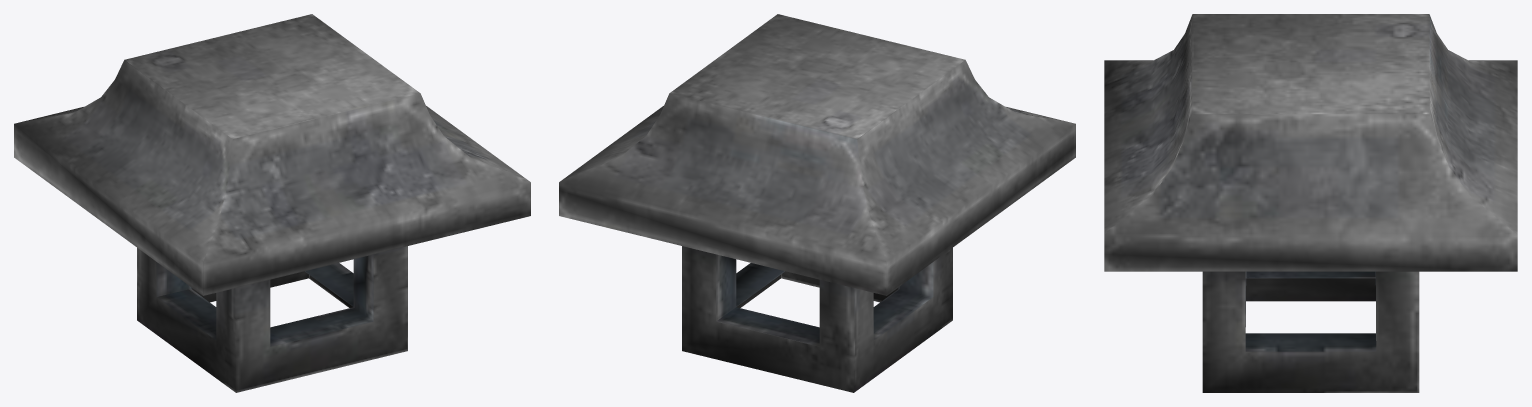
The model's file is lantern.fbx.
3 views of the same model, side by side, from view 1: azimuth 30°, elevation 25°; view 2: azimuth 150°, elevation 25°; view 3: azimuth 270°, elevation 25° (orthographic). The views are drawn at different scales.
Visible parts, largest first — view 1: lantern; view 2: lantern; view 3: lantern.
Part boxes in pixels (left/top/right/bottom): lantern: left=14, top=14, right=530, bottom=392; lantern: left=559, top=14, right=1075, bottom=392; lantern: left=1104, top=14, right=1517, bottom=392.
Size of the model in its own units: 73.08 by 55.2 by 73.08.
